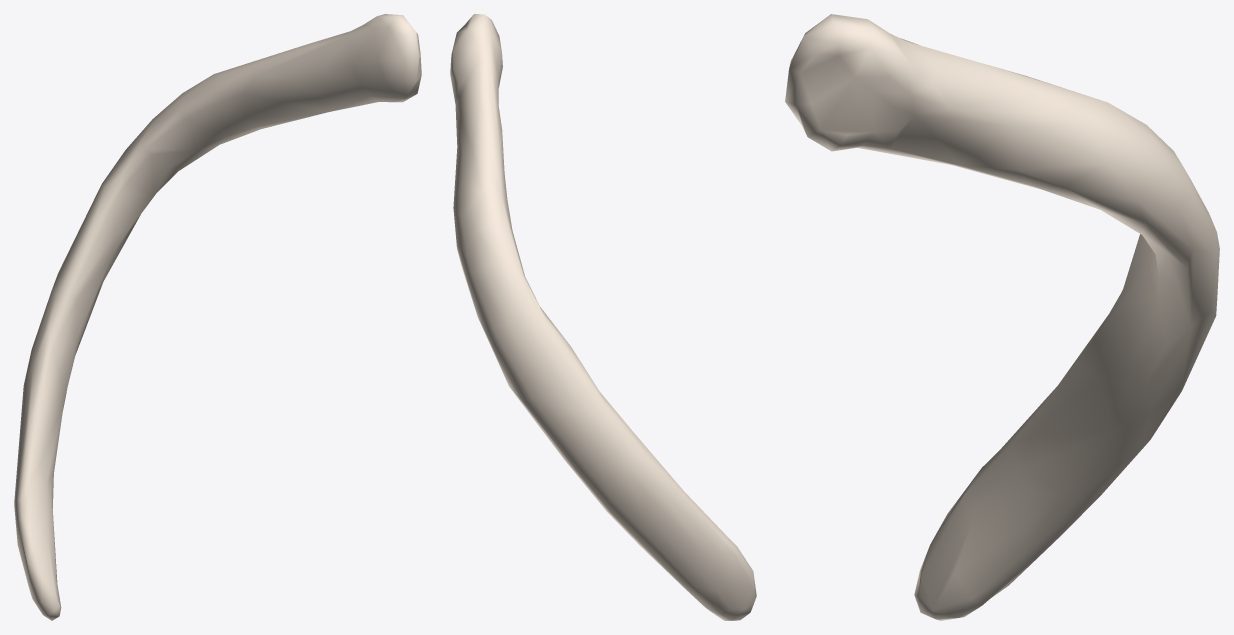
File: right_rib_12.glb
The picture shows the model from 3 angles, left to right: view 1: azimuth 30°, elevation 25°; view 2: azimuth 150°, elevation 25°; view 3: azimuth 270°, elevation 25°; orthographic projection. The views are drawn at different scales.
Visible parts, largest first — view 1: Rib (12th).r; view 2: Rib (12th).r; view 3: Rib (12th).r.
Part boxes in pixels (x1=…): Rib (12th).r: x1=14, y1=14, x2=421, y2=620; Rib (12th).r: x1=450, y1=14, x2=756, y2=620; Rib (12th).r: x1=785, y1=14, x2=1219, y2=620.
Bounding box in the file's own units: 0.0642 × 0.0976 × 0.0462.
